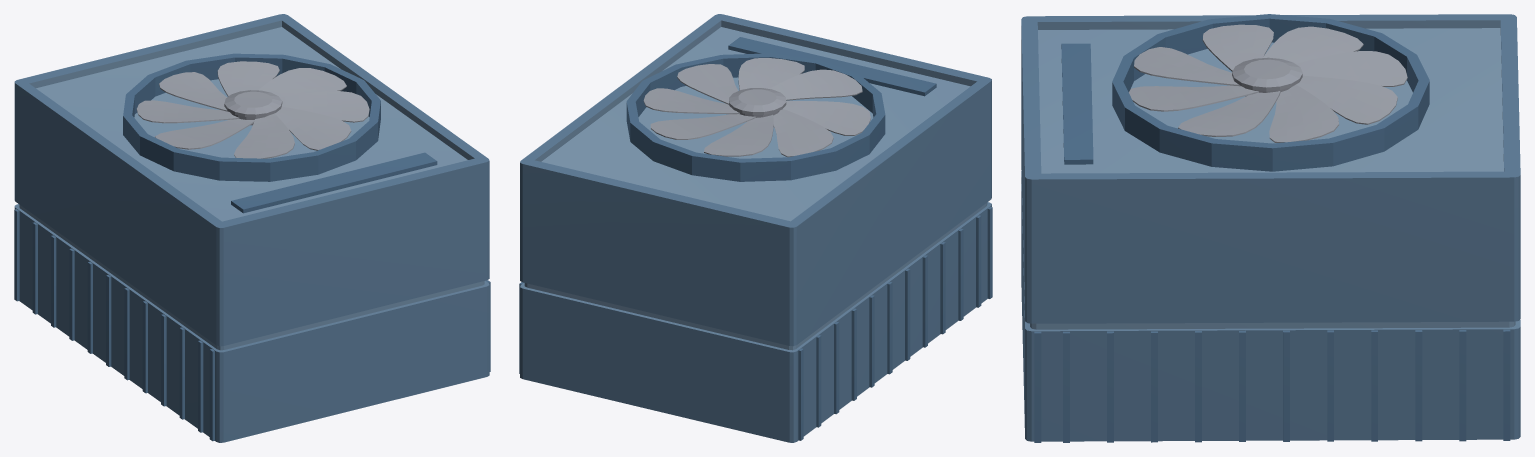
The model's file is air_conditioner_1.fbx.
3 renders of one model, left to right at view 1: azimuth 30°, elevation 25°; view 2: azimuth 150°, elevation 25°; view 3: azimuth 270°, elevation 25°, orthographic. The views are drawn at different scales.
Visible parts, largest first — view 1: air_conditioner_1; view 2: air_conditioner_1; view 3: air_conditioner_1.
Part boxes in pixels (x1,y1,x2,y2): air_conditioner_1: [14, 14, 490, 442]; air_conditioner_1: [519, 14, 992, 442]; air_conditioner_1: [1021, 14, 1520, 442].
Bounding box in the file's own units: 89.88 × 72 × 113.
